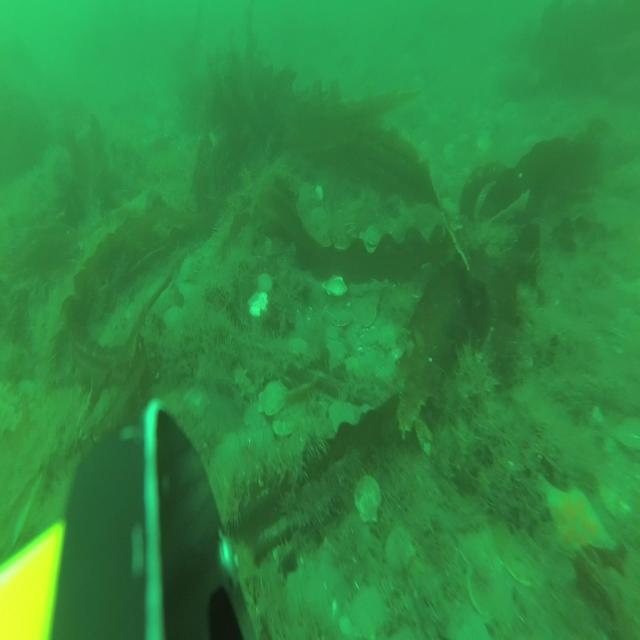holothurian: (232, 361, 260, 409)
scallop: (464, 556, 512, 616), (506, 528, 550, 589), (349, 583, 388, 640), (354, 474, 382, 528), (386, 524, 415, 575), (256, 377, 288, 418), (327, 396, 358, 437), (182, 383, 211, 421), (612, 413, 640, 450), (245, 289, 270, 320), (271, 413, 300, 438), (377, 321, 400, 352), (178, 252, 200, 284), (357, 301, 381, 330), (286, 332, 308, 360), (323, 275, 349, 298), (331, 307, 352, 331), (364, 222, 382, 248), (309, 205, 328, 227), (257, 270, 273, 295)
starfish: (535, 469, 619, 560)
